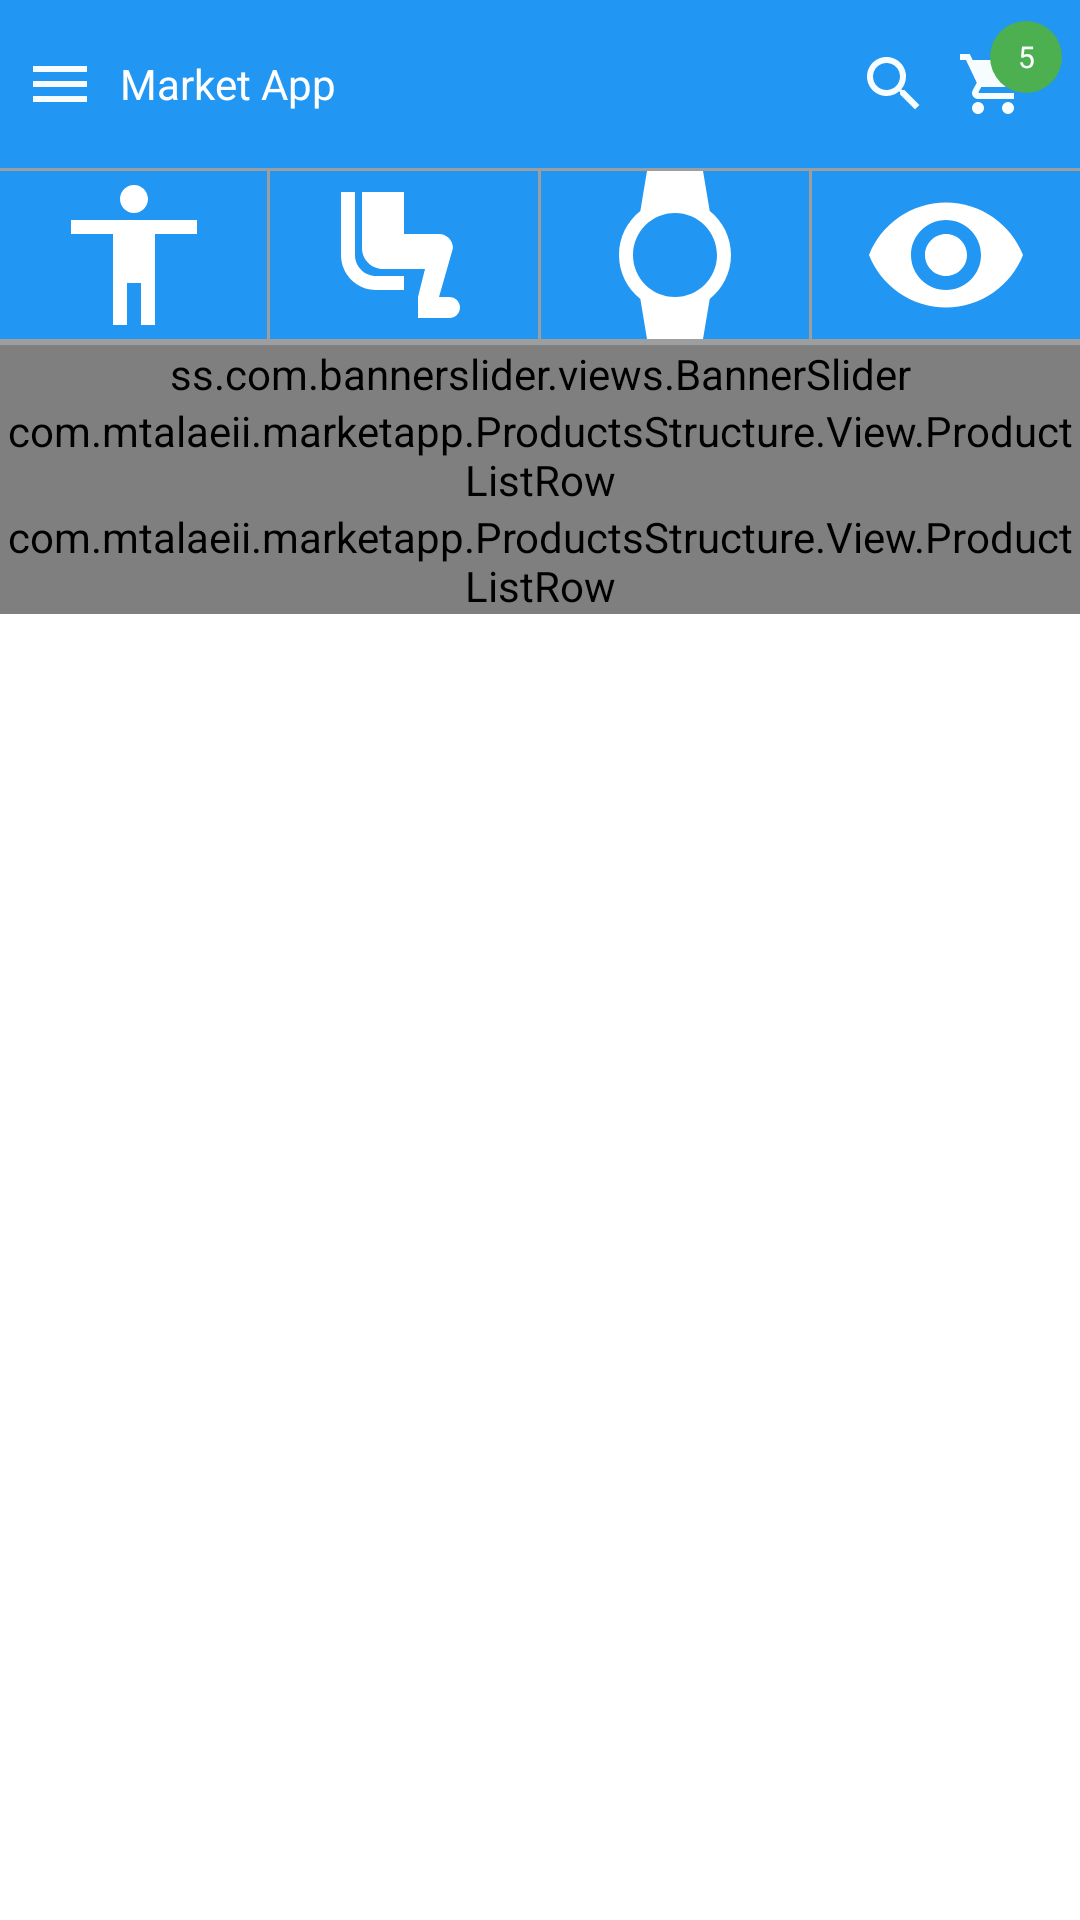

Icon bounding boxes for this 1080px×1920px phone screenshot, format bbox=(x1, y1, x2, y2):
accessibility: bbox=(71, 185, 197, 325)
airline seat legroom reduced: bbox=(341, 192, 460, 318)
menu: bbox=(33, 66, 87, 102)
search: bbox=(867, 57, 919, 109)
shopping cart: bbox=(960, 48, 1029, 114)
watch: bbox=(541, 171, 809, 339)
